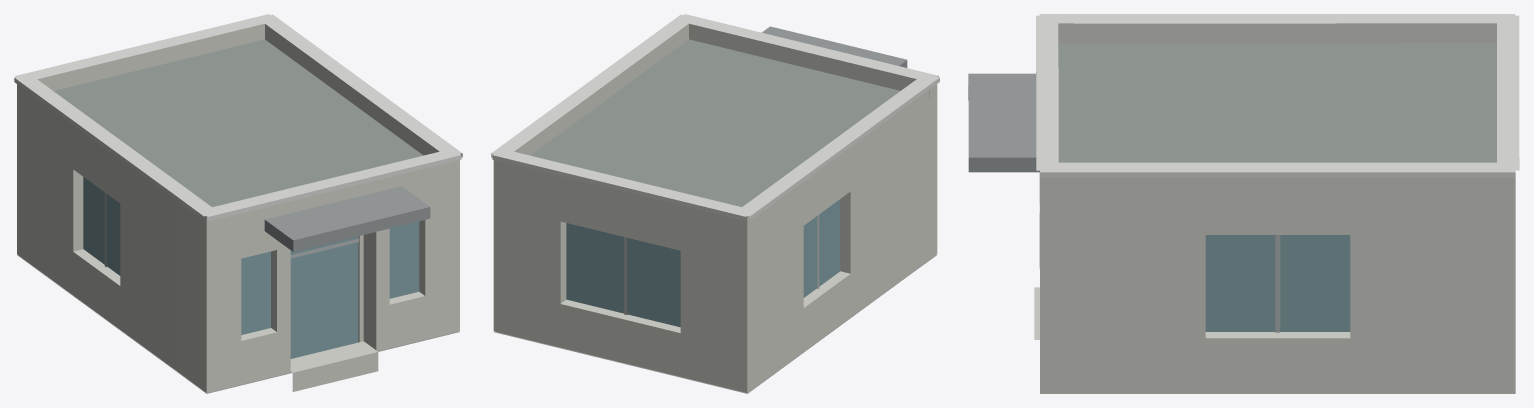
The picture shows the model from 3 angles, left to right: view 1: azimuth 30°, elevation 25°; view 2: azimuth 150°, elevation 25°; view 3: azimuth 270°, elevation 25°; orthographic projection. The views are drawn at different scales.
Parts seen in each view (by area): view 1: osm761589248__wall, osm761589248__roof, osm761589248__glass, osm761589248__trim, osm761589248__parapet, osm761589248__canopy, osm761589248__entranceThreshold_0, osm761589248__frame; view 2: osm761589248__wall, osm761589248__roof, osm761589248__trim, osm761589248__glass, osm761589248__parapet, osm761589248__canopy, osm761589248__frame; view 3: osm761589248__wall, osm761589248__roof, osm761589248__trim, osm761589248__parapet, osm761589248__glass, osm761589248__canopy, osm761589248__frame.
Boxes of the visible parts, x1=… form: osm761589248__wall: x1=17, y1=93, x2=459, y2=392; osm761589248__roof: x1=17, y1=39, x2=459, y2=393; osm761589248__glass: x1=83, y1=177, x2=419, y2=358; osm761589248__trim: x1=14, y1=14, x2=462, y2=221; osm761589248__parapet: x1=17, y1=23, x2=459, y2=231; osm761589248__canopy: x1=264, y1=186, x2=430, y2=251; osm761589248__entranceThreshold_0: x1=290, y1=341, x2=378, y2=391; osm761589248__frame: x1=104, y1=192, x2=358, y2=267; osm761589248__wall: x1=493, y1=93, x2=937, y2=392; osm761589248__roof: x1=494, y1=39, x2=936, y2=393; osm761589248__trim: x1=491, y1=14, x2=939, y2=221; osm761589248__glass: x1=566, y1=199, x2=840, y2=327; osm761589248__parapet: x1=493, y1=23, x2=937, y2=231; osm761589248__canopy: x1=762, y1=26, x2=907, y2=67; osm761589248__frame: x1=624, y1=215, x2=819, y2=314; osm761589248__wall: x1=1039, y1=172, x2=1515, y2=392; osm761589248__roof: x1=1039, y1=43, x2=1515, y2=393; osm761589248__trim: x1=1036, y1=14, x2=1519, y2=177; osm761589248__parapet: x1=1040, y1=23, x2=1515, y2=190; osm761589248__glass: x1=1205, y1=235, x2=1350, y2=331; osm761589248__canopy: x1=968, y1=73, x2=1039, y2=172; osm761589248__frame: x1=1275, y1=235, x2=1280, y2=332.
Bounding box in the file's own units: 6.03 × 4.35 × 8.88.
